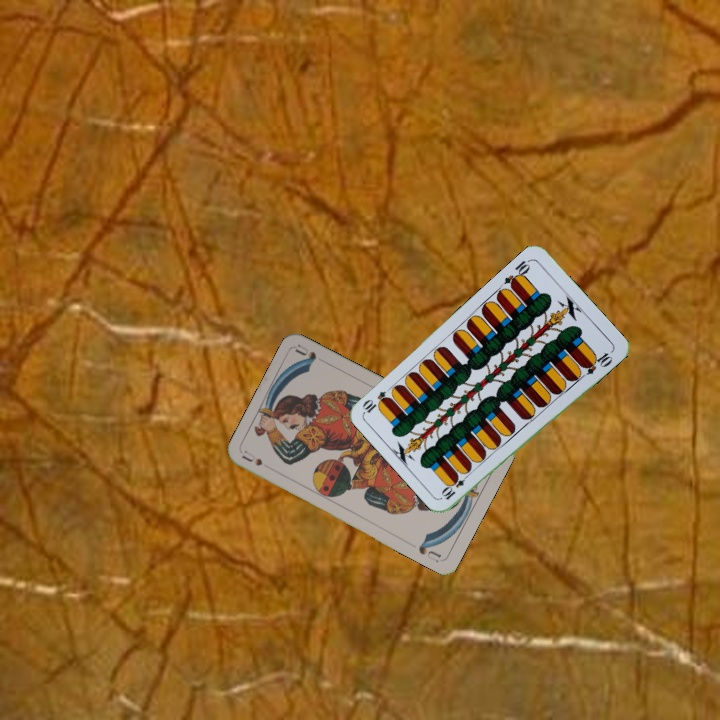E10: (500, 255, 533, 291), (438, 468, 472, 502)
SU: (238, 446, 265, 469)
